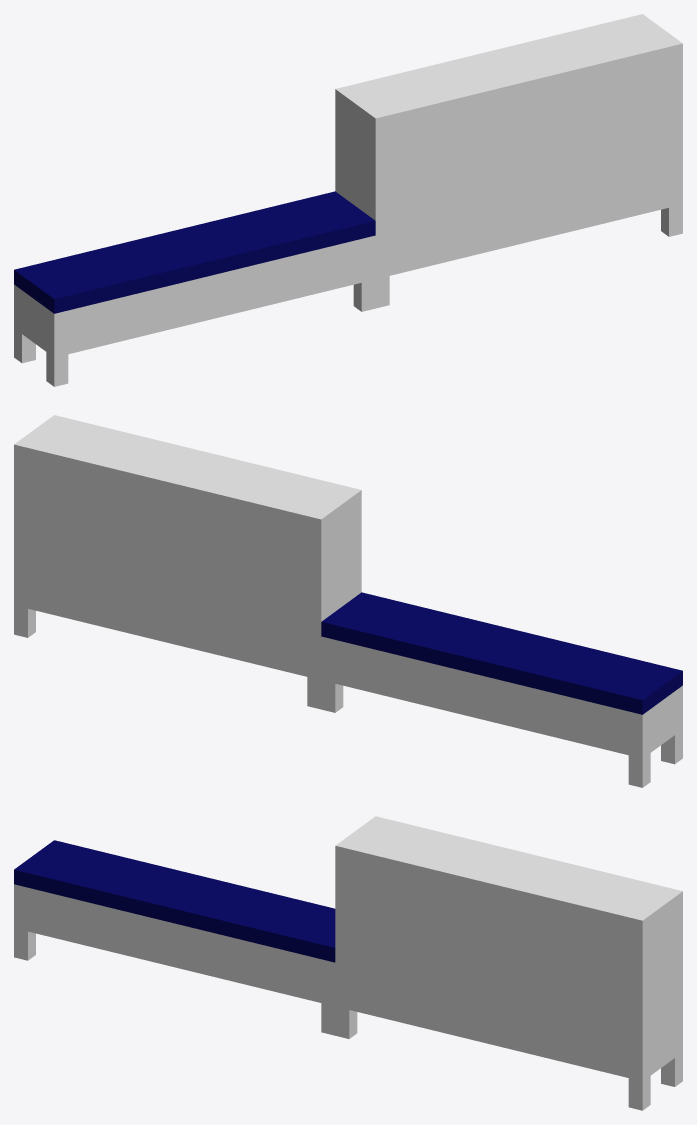
Rendered from dice_2og-14-joyn_qubo.obj.
3 renders of one model, top to bottom at view 1: azimuth 30°, elevation 25°; view 2: azimuth 150°, elevation 25°; view 3: azimuth 330°, elevation 25°, orthographic.
Parts seen in each view (by area): view 1: joyn_qubo; view 2: joyn_qubo; view 3: joyn_qubo.
Boxes of the visible parts, x1,y1,x2,y2 form: joyn_qubo: [14, 14, 682, 386]; joyn_qubo: [14, 415, 682, 787]; joyn_qubo: [14, 816, 682, 1110].
Size of the model in its own units: 4.5 by 1.3 by 0.5.
Materials: 1 (1 with a texture image).
